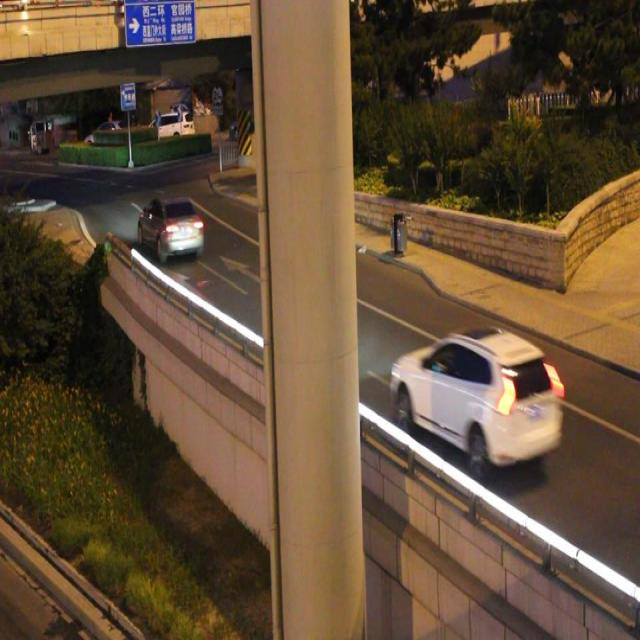car: (390, 324, 562, 471), (137, 192, 203, 261)
